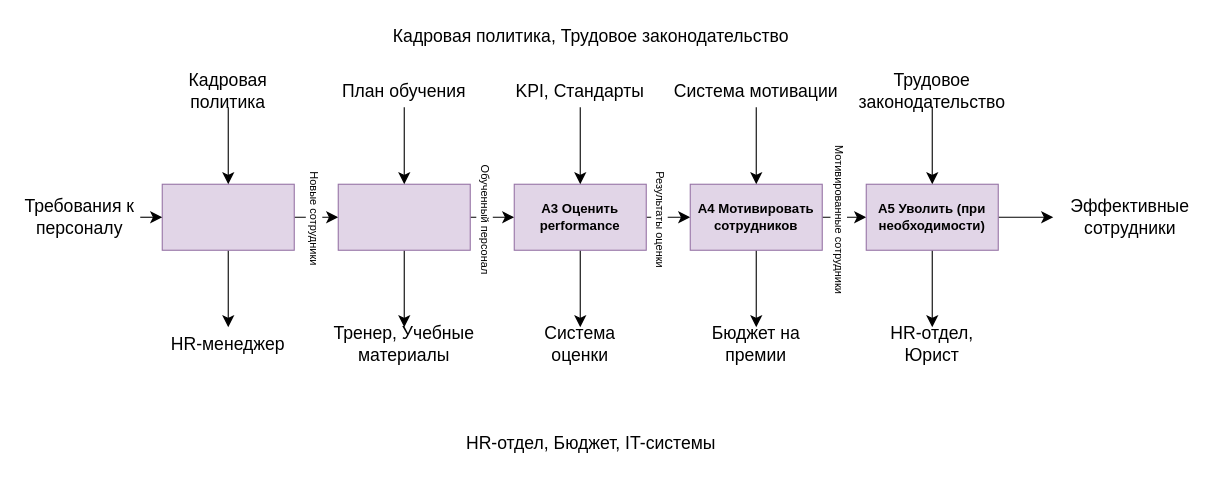
Image size: 1225x477. Some labels were removed from this diagram. The centre of each missing label's shape, as x and y in pixels:
"A1 Нанять сотрудников" belongs at pixel 227 216.
"A2 Обучить персонал" belongs at pixel 403 216.
